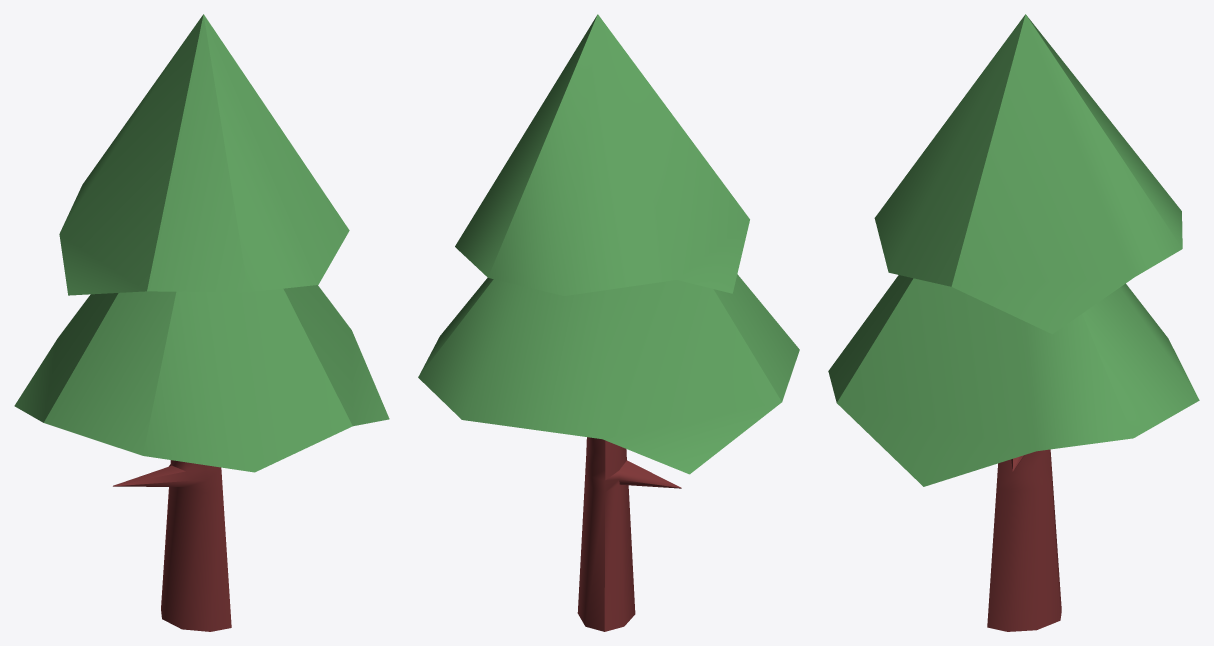
The model's file is pine_10.glb.
3 renders of one model, left to right at view 1: azimuth 30°, elevation 25°; view 2: azimuth 150°, elevation 25°; view 3: azimuth 270°, elevation 25°, orthographic.
Parts seen in each view (by area): view 1: default9_Material_0; view 2: default9_Material_0; view 3: default9_Material_0.
Boxes of the visible parts, x1,y1,x2,y2 form: default9_Material_0: (14,14,389,631); default9_Material_0: (418,14,799,631); default9_Material_0: (828,14,1199,631).
Bounding box in the file's own units: 0.0251 × 0.0442 × 0.0244.
Materials: 1 (1 with a texture image).
